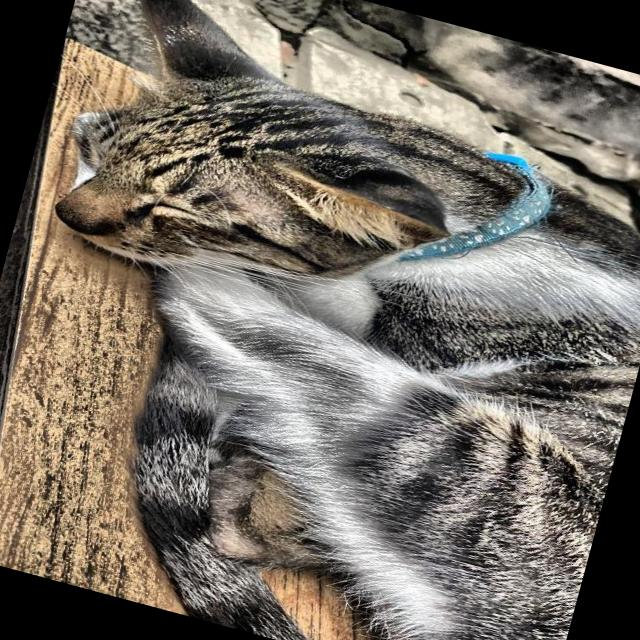Healthy skin: (426, 261, 597, 458), (158, 65, 374, 218)
